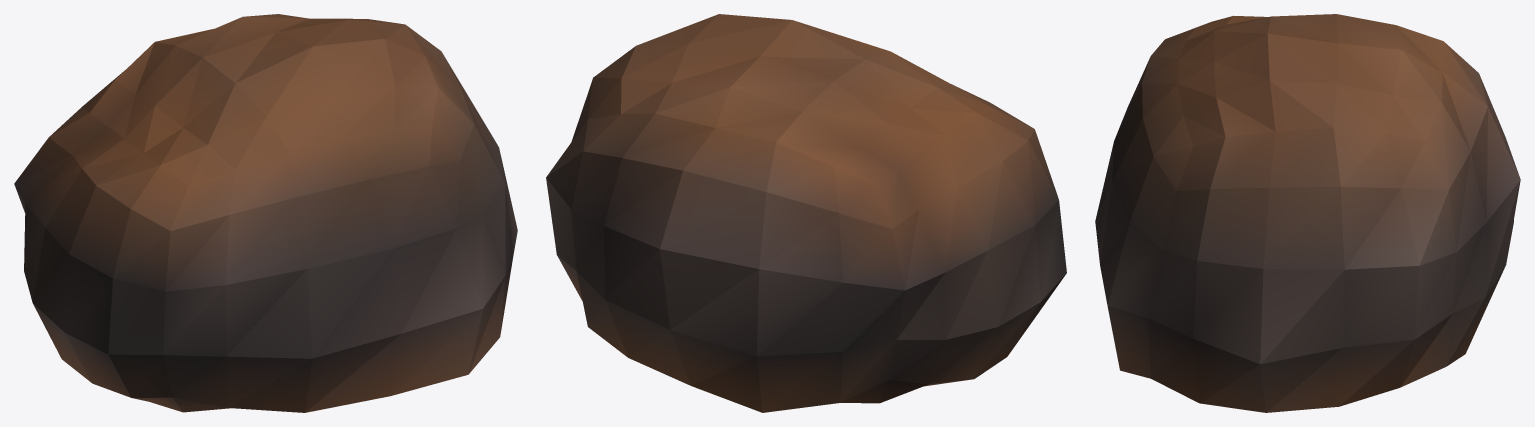
Rendered from stimpy.glb.
3 renders of one model, left to right at view 1: azimuth 30°, elevation 25°; view 2: azimuth 150°, elevation 25°; view 3: azimuth 270°, elevation 25°, orthographic.
Parts seen in each view (by area): view 1: rock-stimpy; view 2: rock-stimpy; view 3: rock-stimpy.
Part boxes in pixels (<box>): rock-stimpy: <box>14,14,517,412</box>; rock-stimpy: <box>546,14,1066,412</box>; rock-stimpy: <box>1095,14,1520,412</box>.
Size of the model in its own units: 0.32 by 0.2 by 0.26.
